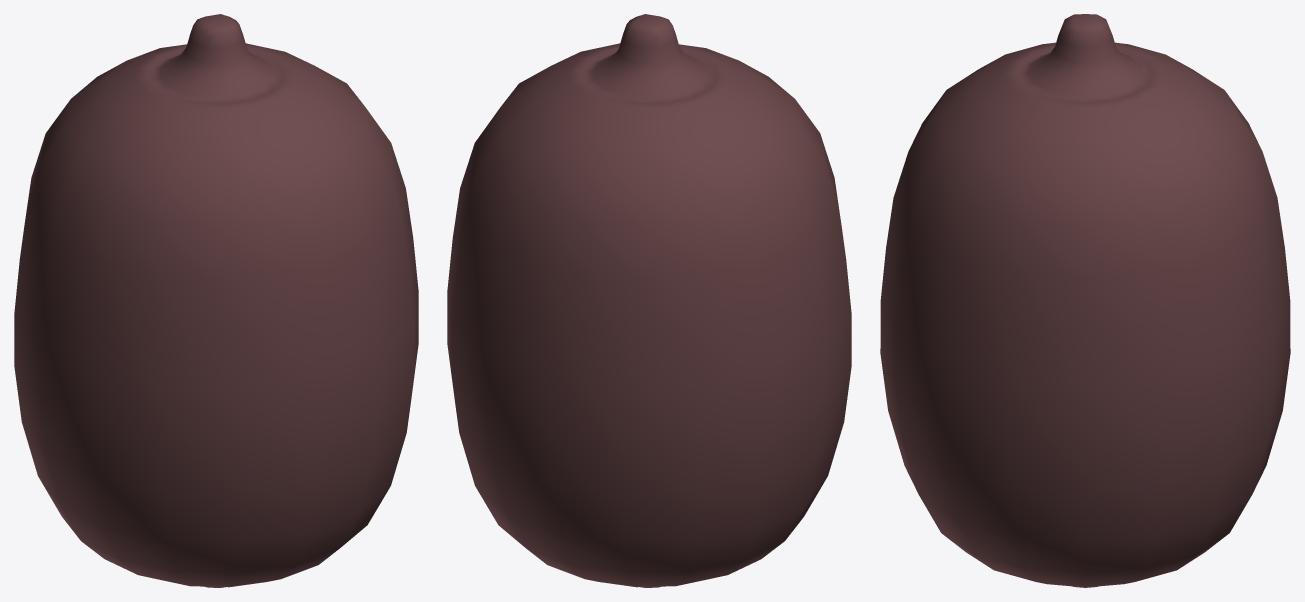
The model's file is Green_Seed_Model.fbx.
The picture shows the model from 3 angles, left to right: view 1: azimuth 30°, elevation 25°; view 2: azimuth 150°, elevation 25°; view 3: azimuth 270°, elevation 25°; orthographic projection.
Parts seen in each view (by area): view 1: Green_Seed; view 2: Green_Seed; view 3: Green_Seed.
Part boxes in pixels (bbox=[...]): Green_Seed: bbox=[14, 14, 418, 587]; Green_Seed: bbox=[447, 14, 851, 587]; Green_Seed: bbox=[880, 14, 1290, 587].
Bounding box in the file's own units: 0.5484 × 0.8247 × 0.5484.
